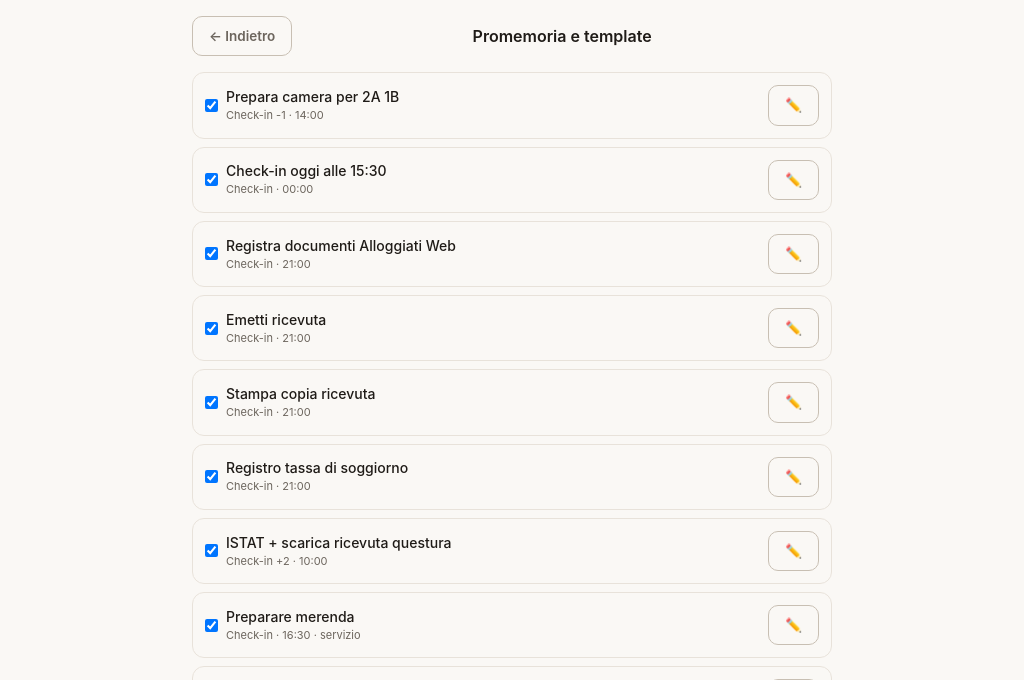
TemplatesPage › opens edit modal when pencil button is clicked
Click the button "✏️" in the row of "Prepara camera per 2A 1B": (794, 105) [768,85,819,126]
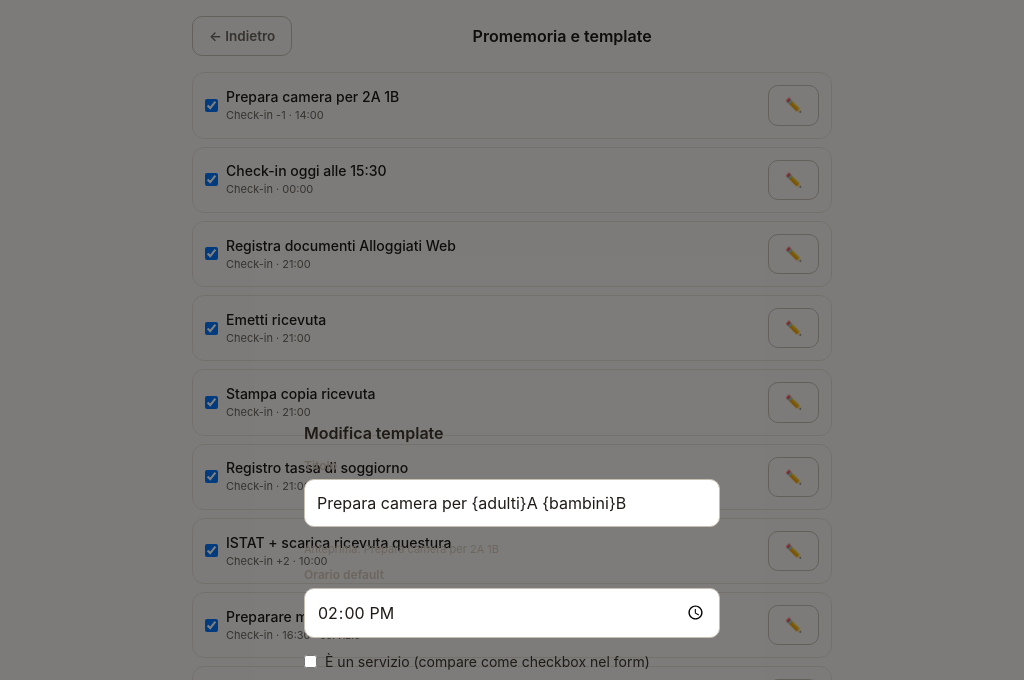
Expected: the heading "Modifica template" is shown, [304,423,444,443]
